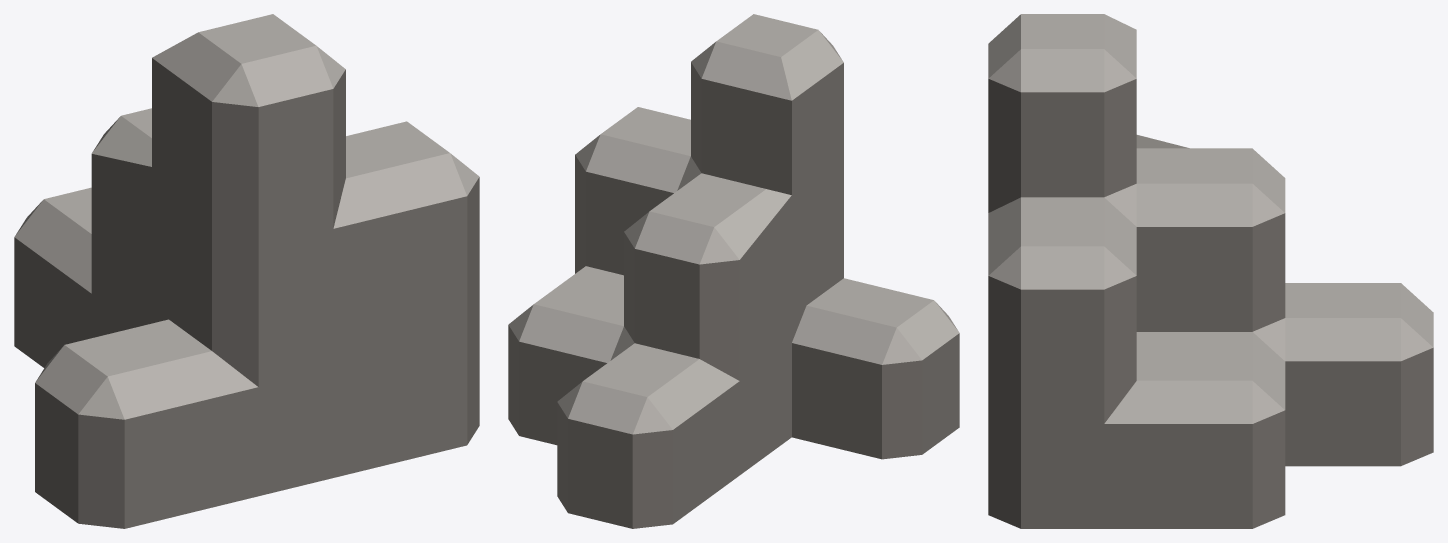
3 renders of one model, left to right at view 1: azimuth 30°, elevation 25°; view 2: azimuth 150°, elevation 25°; view 3: azimuth 270°, elevation 25°, orthographic. The views are drawn at different scales.
Visible parts, largest first — view 1: stone_debris_angular_chip; view 2: stone_debris_angular_chip; view 3: stone_debris_angular_chip.
Part boxes in pixels (x1,y1,x2,y2): stone_debris_angular_chip: (14, 14, 479, 528); stone_debris_angular_chip: (508, 14, 959, 528); stone_debris_angular_chip: (988, 14, 1433, 528).
Size of the model in its own units: 0.3 by 0.3 by 0.3.
1 material, 1 textured.
